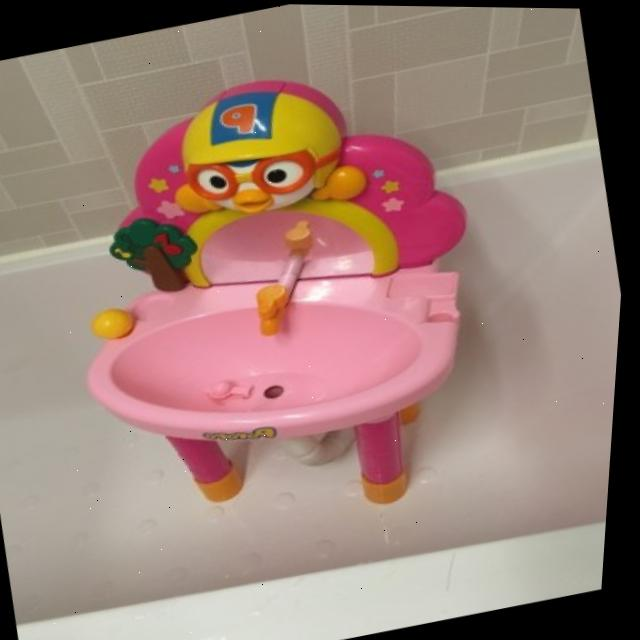Dry: (15, 25, 534, 574)
